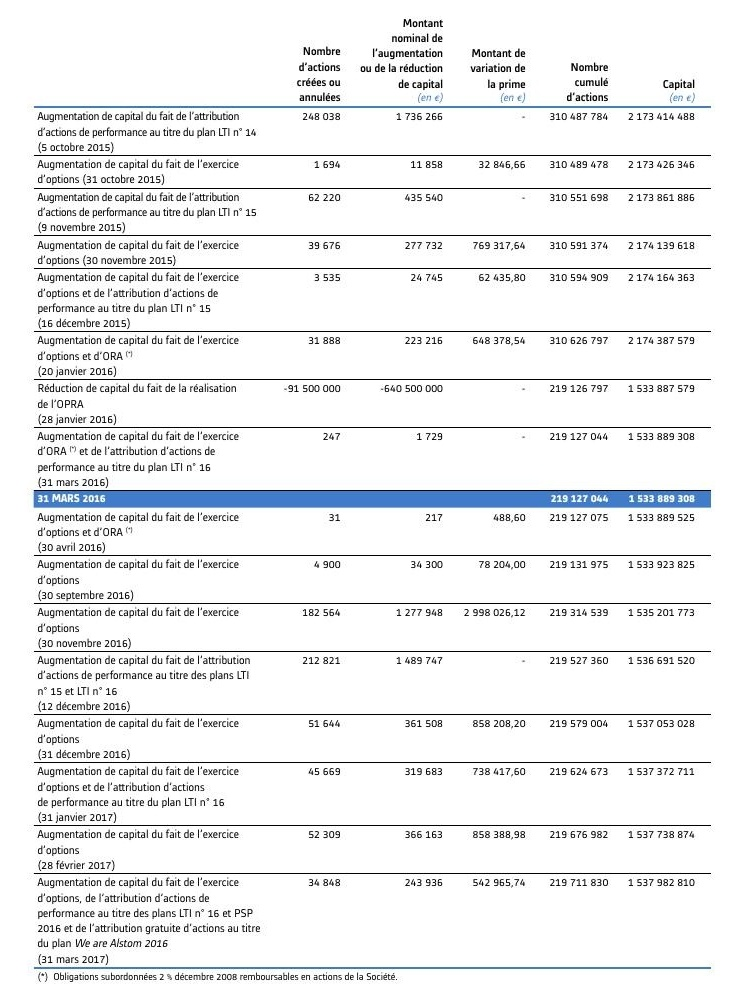table: (0, 0, 746, 996)
